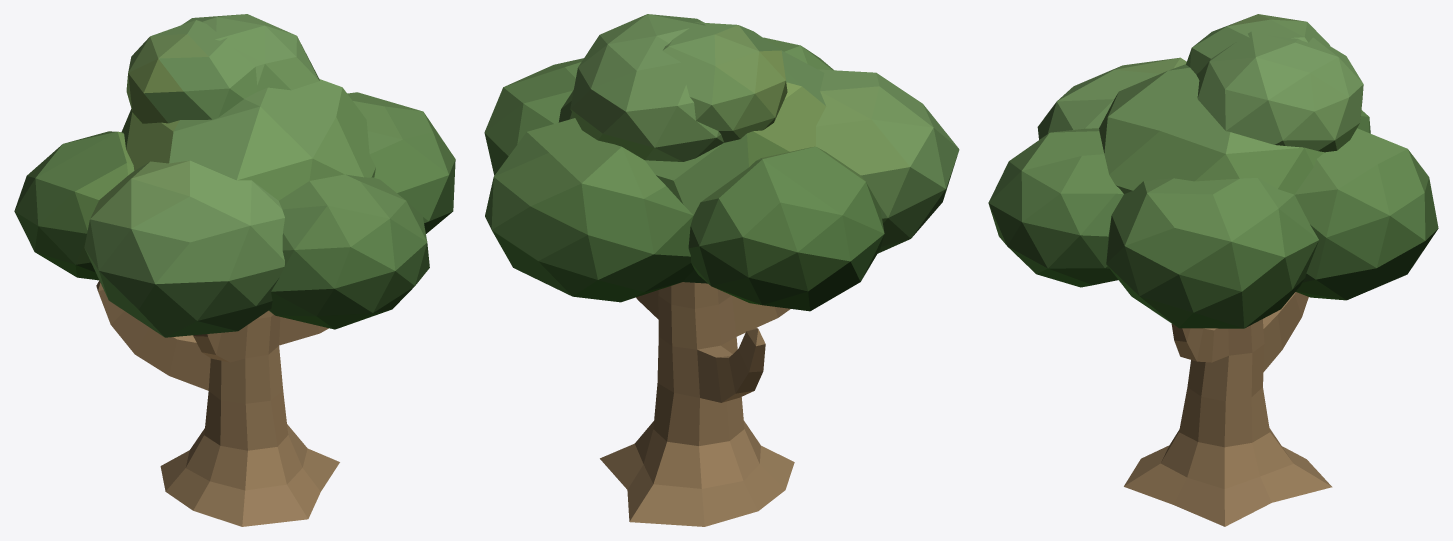
File: Toon_Oak.glb
3 views of the same model, side by side, from view 1: azimuth 30°, elevation 25°; view 2: azimuth 150°, elevation 25°; view 3: azimuth 270°, elevation 25° (orthographic). The views are drawn at different scales.
Parts seen in each view (by area): view 1: Toon_Oak; view 2: Toon_Oak; view 3: Toon_Oak.
Boxes of the visible parts, bbox=[...] form: Toon_Oak: bbox=[14, 14, 455, 526]; Toon_Oak: bbox=[484, 14, 959, 526]; Toon_Oak: bbox=[988, 14, 1438, 526].
Size of the model in its own units: 6.37 by 7.15 by 6.54.
